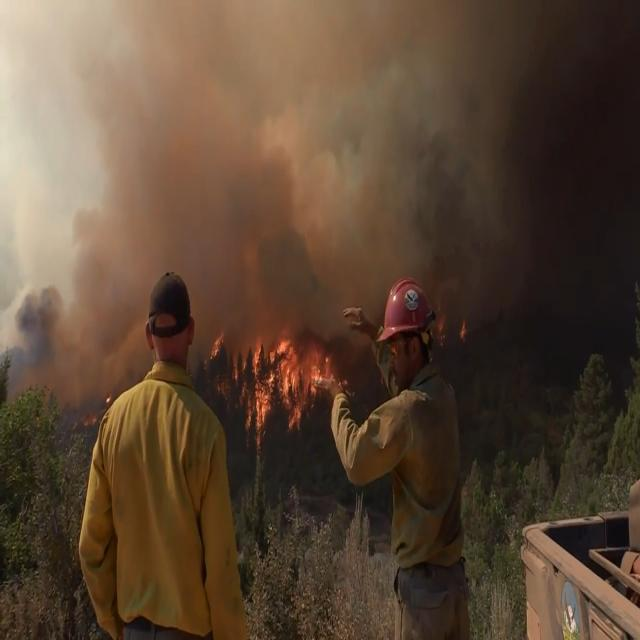Fire: (206, 264, 341, 436)
